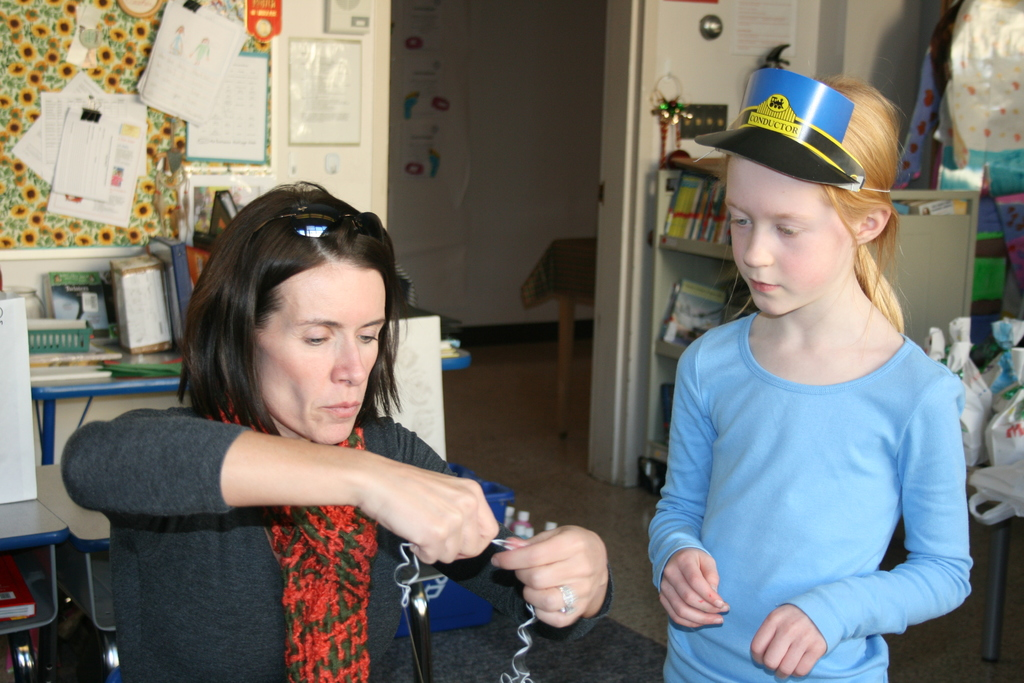Human_hand: (362, 460, 500, 569), (502, 523, 623, 638), (747, 604, 829, 682), (659, 548, 732, 629)
